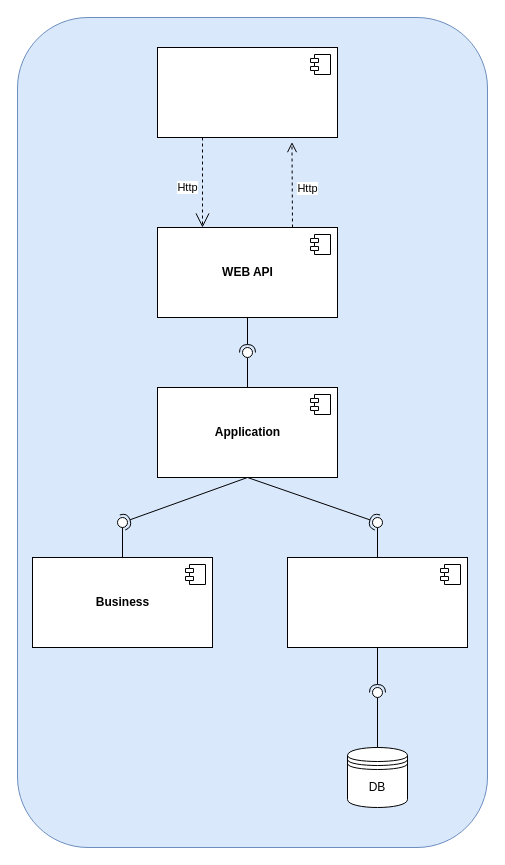
Some shapes in this 505 by 865 pixel diagram are drawn without their labels. Here are the shapes that lost their labels. From the top down, the centre of each, then its label:
At point (247, 92): "SPA".
At point (377, 602): "Infrastructure".
